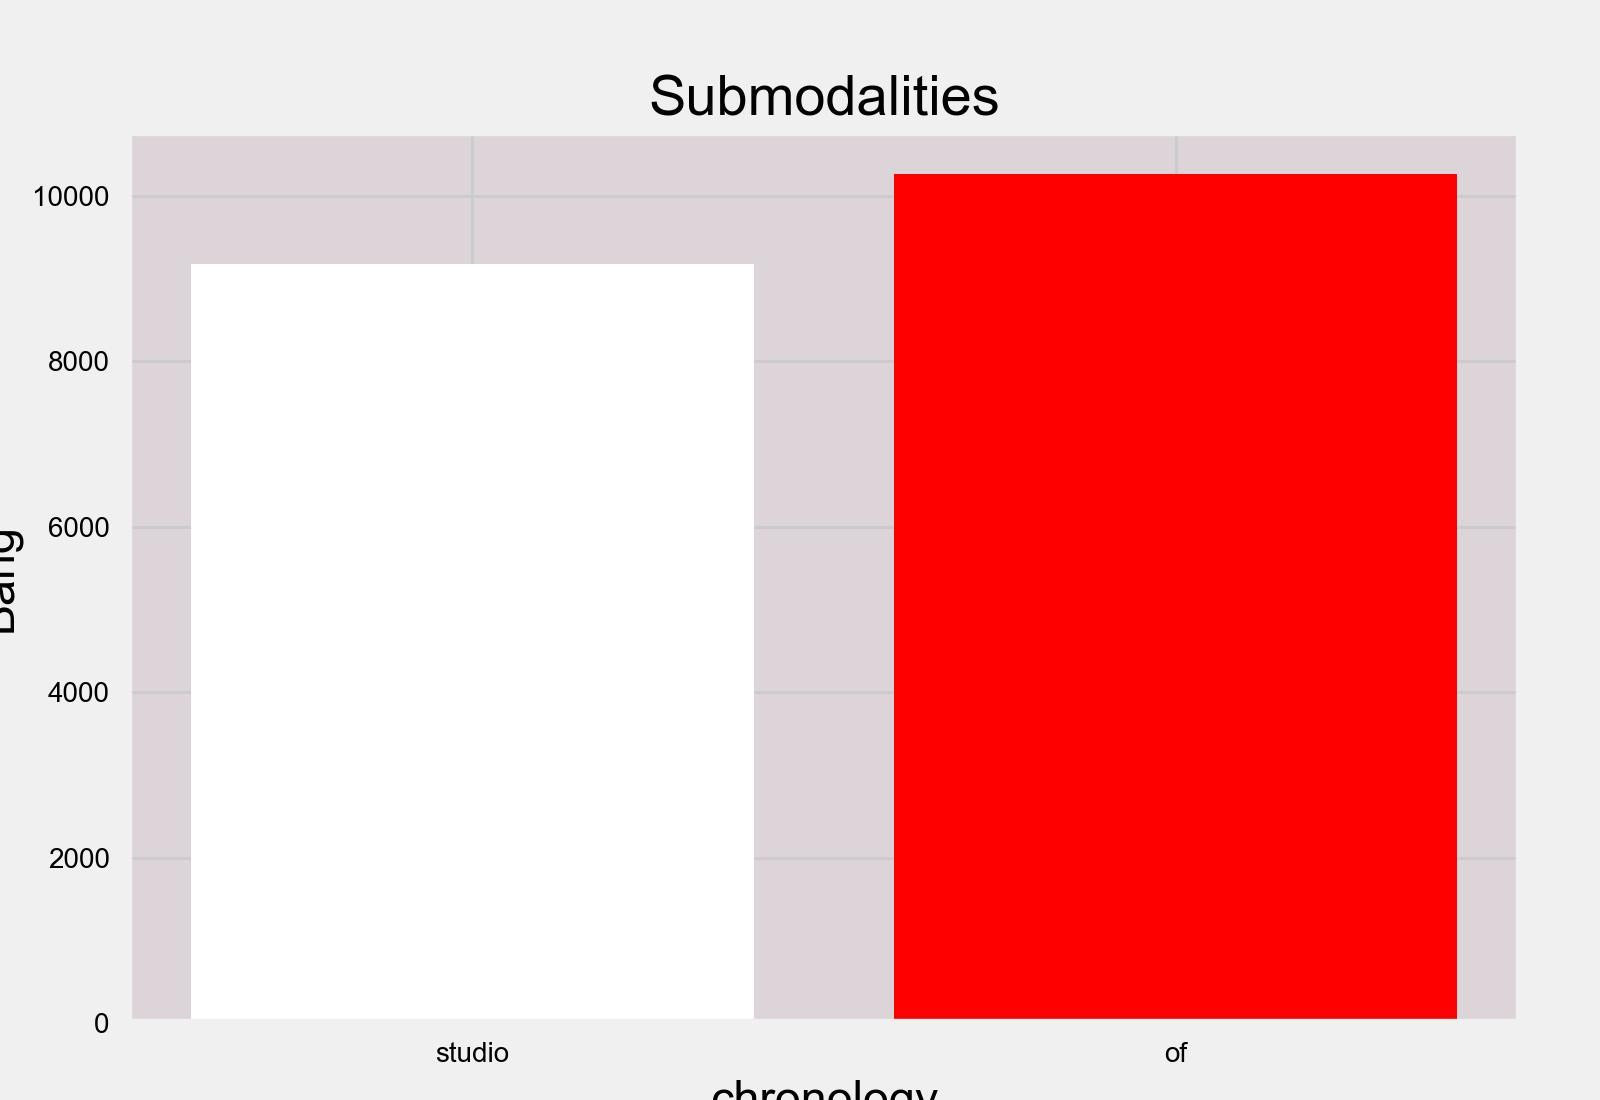axis: (0, 186, 109, 1039)
rectangle: (895, 174, 1457, 1023), (192, 264, 754, 1023)
